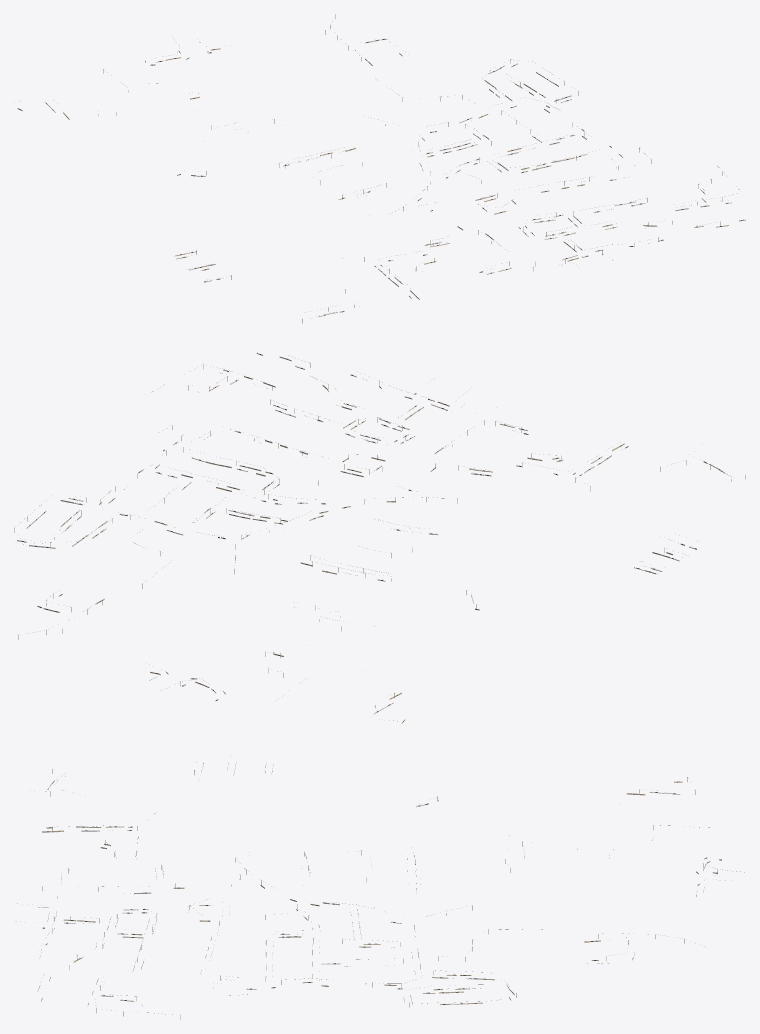
3 views of the same model, one above another, from view 1: azimuth 30°, elevation 25°; view 2: azimuth 150°, elevation 25°; view 3: azimuth 270°, elevation 25° (orthographic). The views are drawn at different scales.
Parts seen in each view (by area): view 1: nd_st_m7_m5_lod0; view 2: nd_st_m7_m5_lod0; view 3: nd_st_m7_m5_lod0.
Boxes of the visible parts, <box> form: nd_st_m7_m5_lod0: <box>17,14,745,323</box>; nd_st_m7_m5_lod0: <box>14,352,745,723</box>; nd_st_m7_m5_lod0: <box>17,762,744,1019</box>.
Size of what is drawn, in the model's own units: 909 by 25.31 by 1069.
